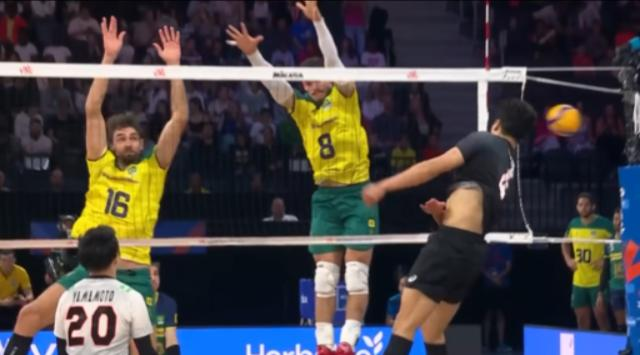Libero: (44, 215, 205, 355)
bola: (538, 85, 588, 151)
